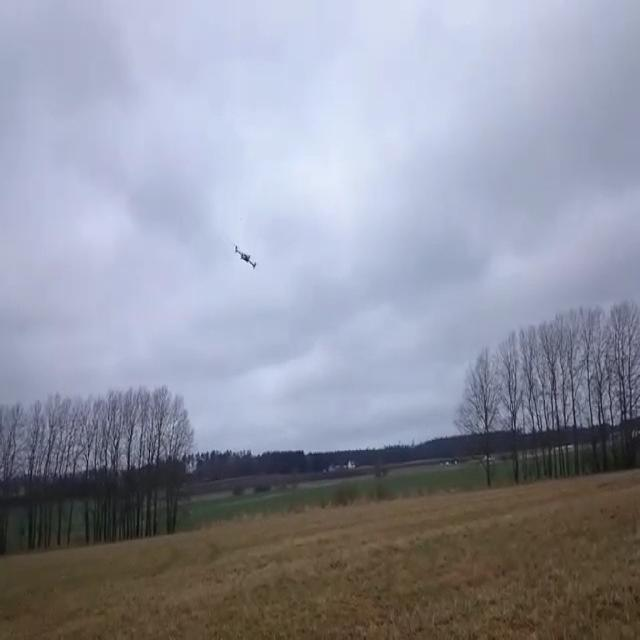drone: (233, 244, 257, 268)
